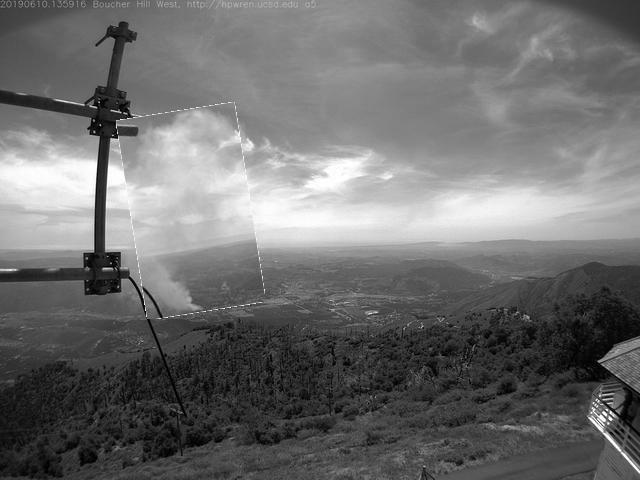smoke: (125, 107, 260, 317)
